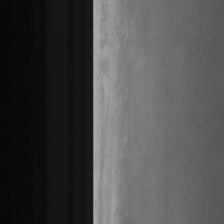silk_spot: (114, 51, 136, 205)
